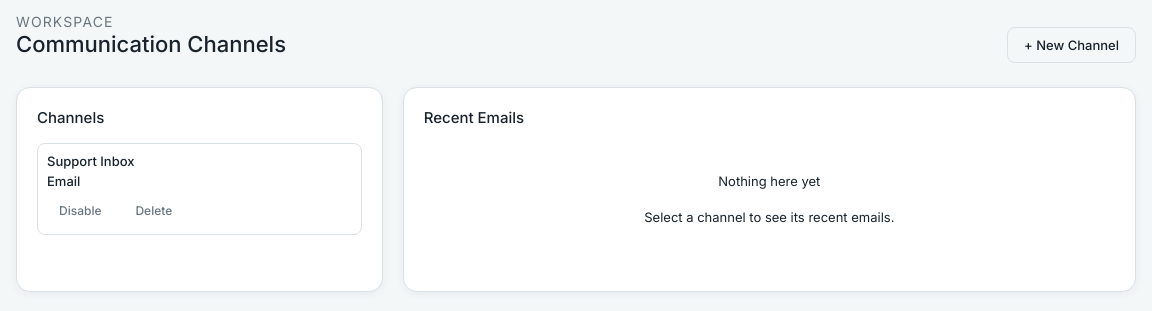
Test: CommunicationChannelsManagementView › selects a channel and renders its email list
Click the button with class "channel-select". click: (91, 161)
box: [46,152,353,190]
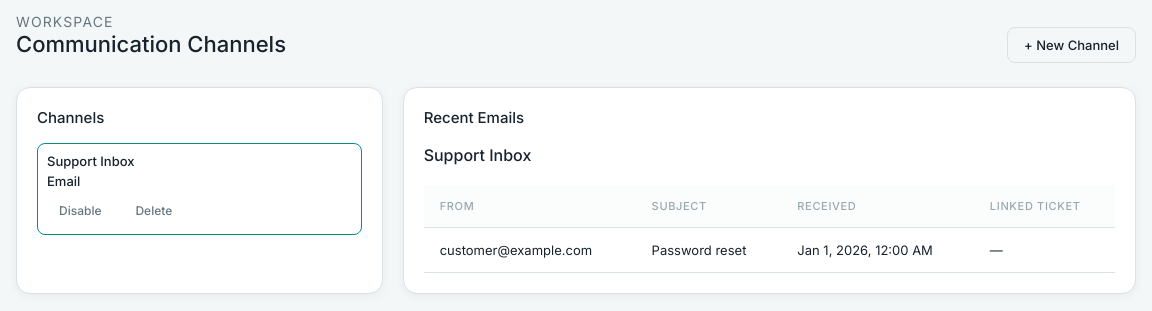
Expected: the text "Password reset" is shown, [636,227,781,272]
